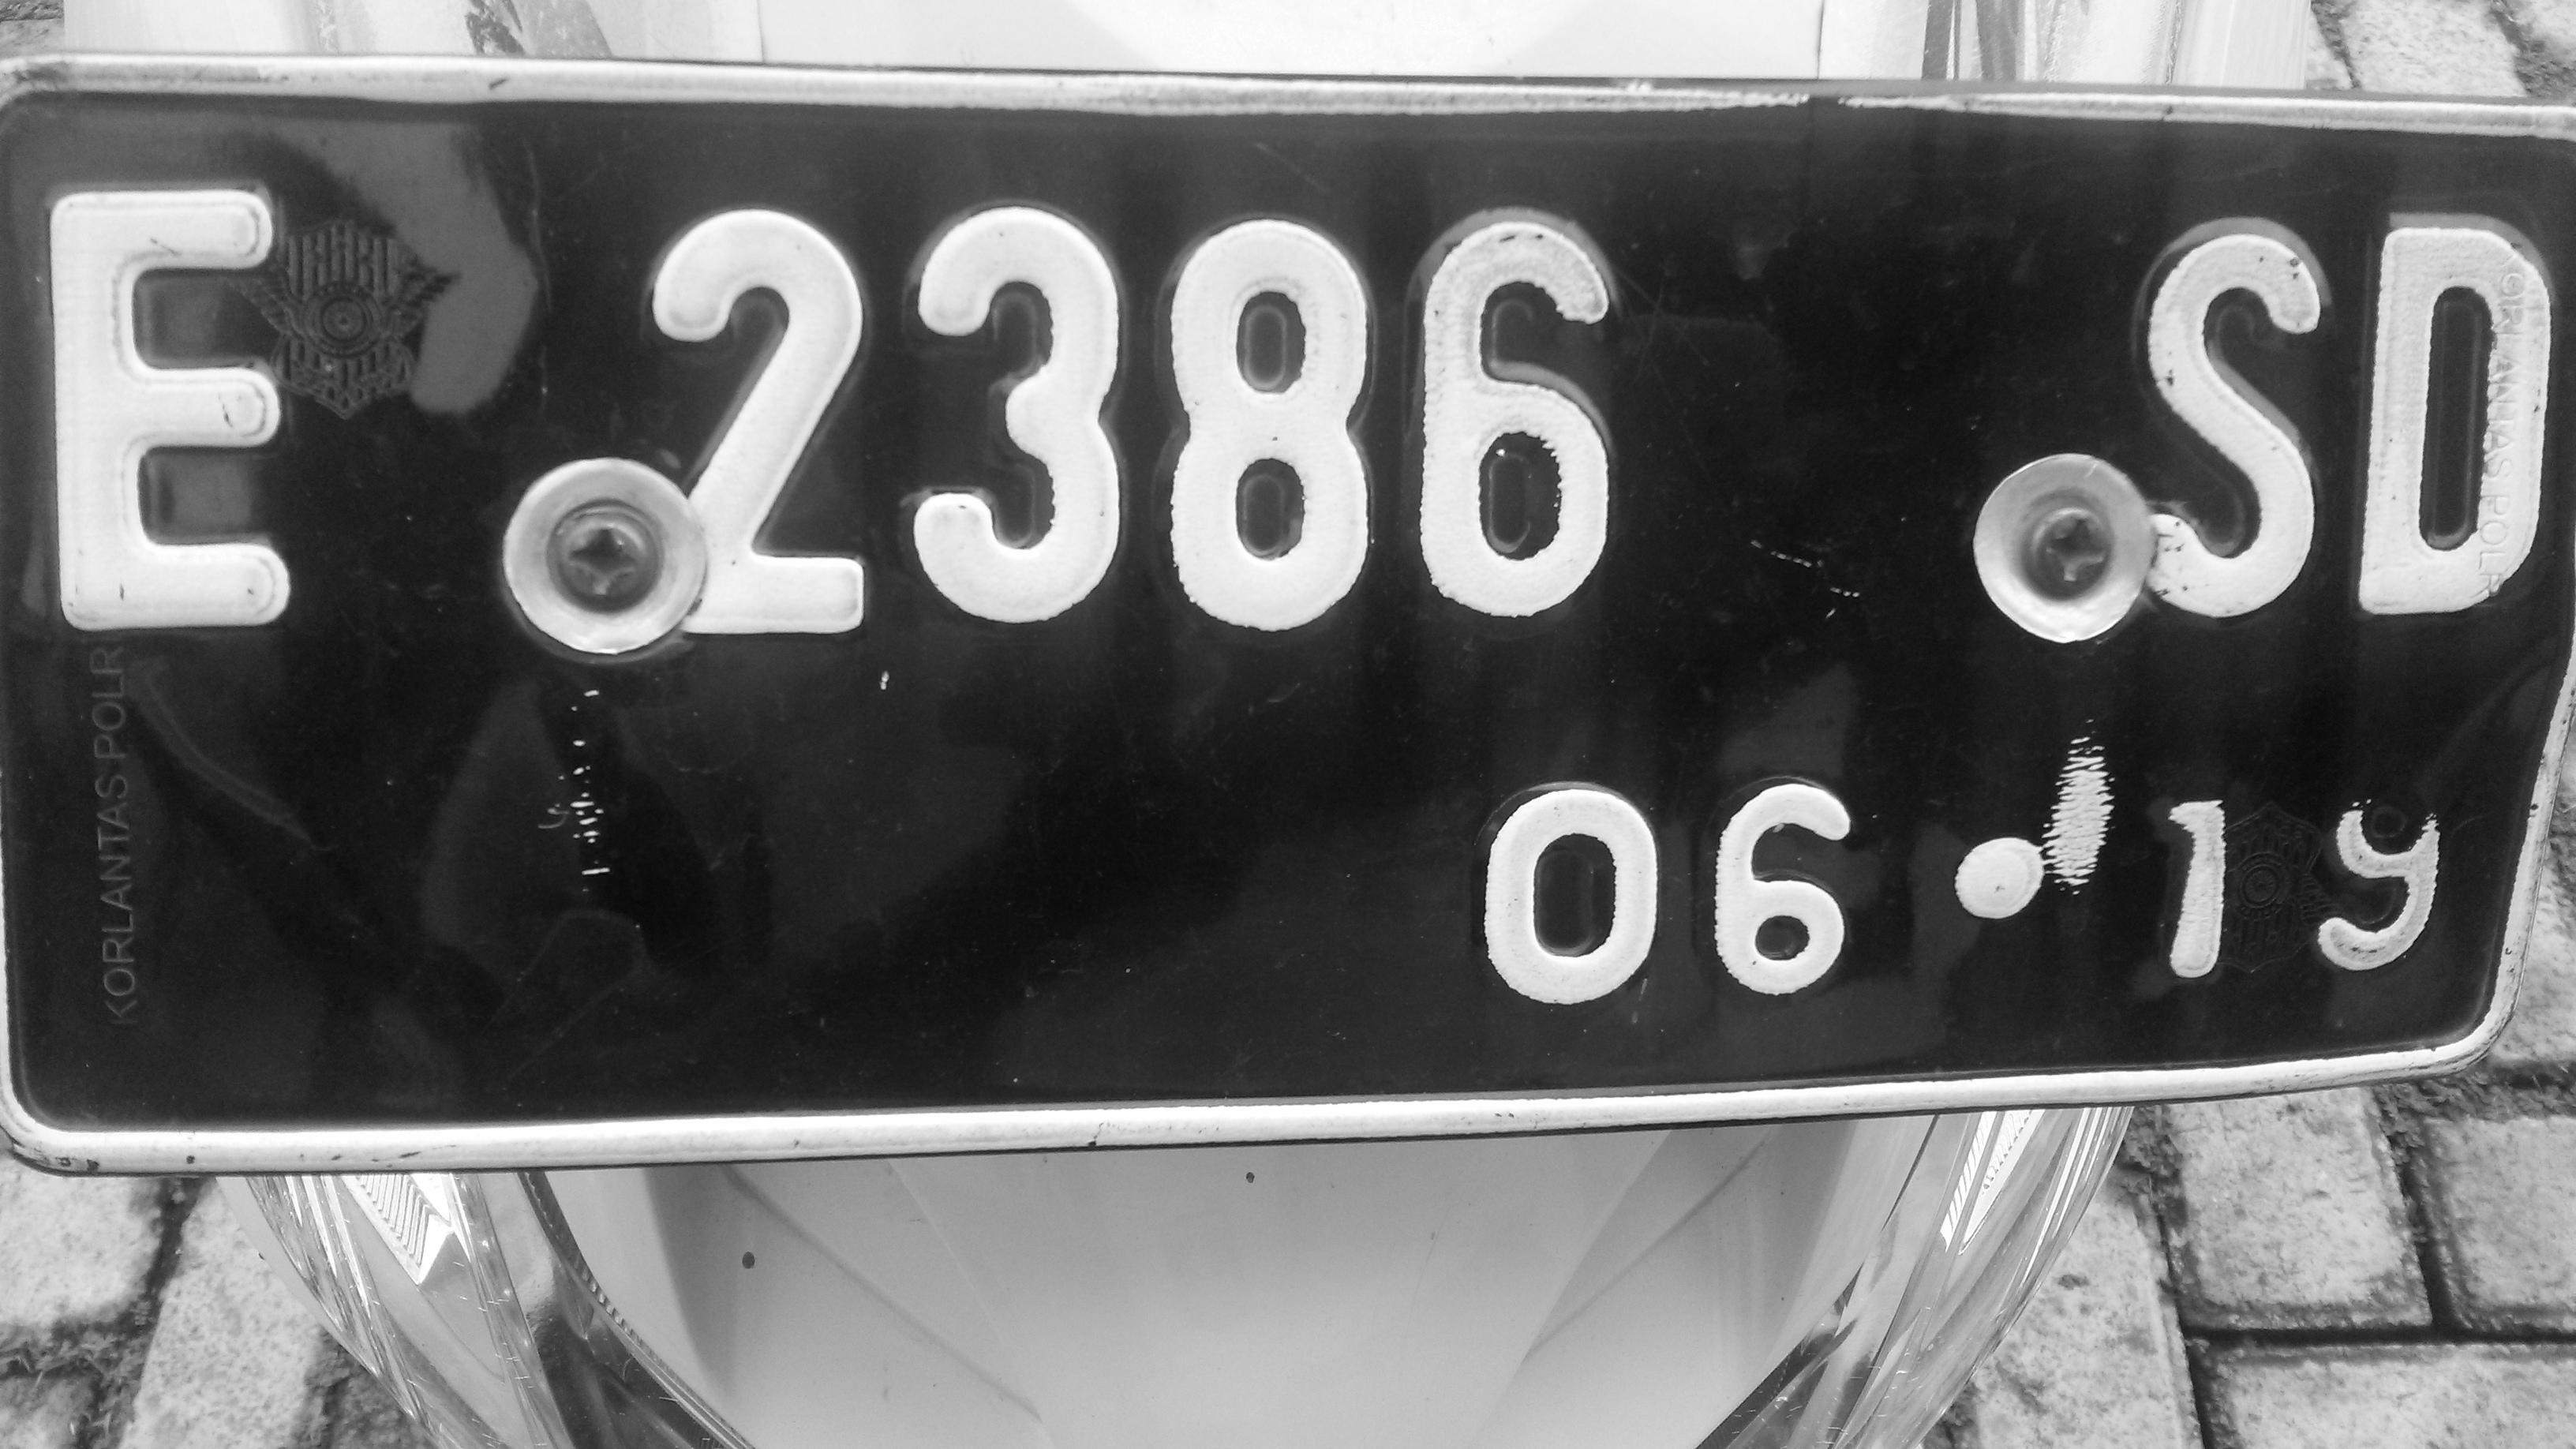2: (612, 174, 898, 643)
3: (885, 196, 1144, 632)
6: (1386, 195, 1648, 631)
8: (1148, 195, 1391, 642)
D: (2349, 193, 2574, 615)
E: (21, 148, 350, 645)
S: (2072, 205, 2351, 638)
